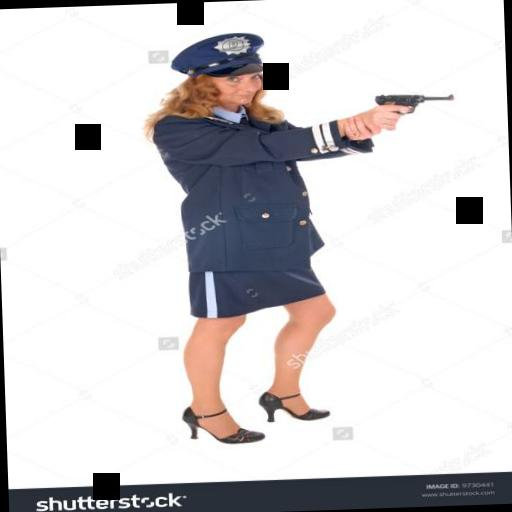Handgun: (373, 90, 455, 115)
